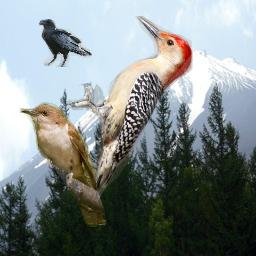Crow: (38, 19, 92, 67)
Cuckoo: (19, 102, 106, 227)
Woodpecker: (67, 16, 195, 208)
